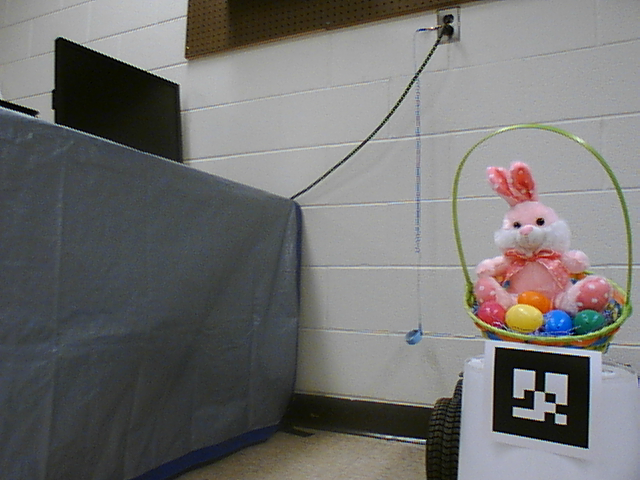bunny: (441, 121, 638, 363)
